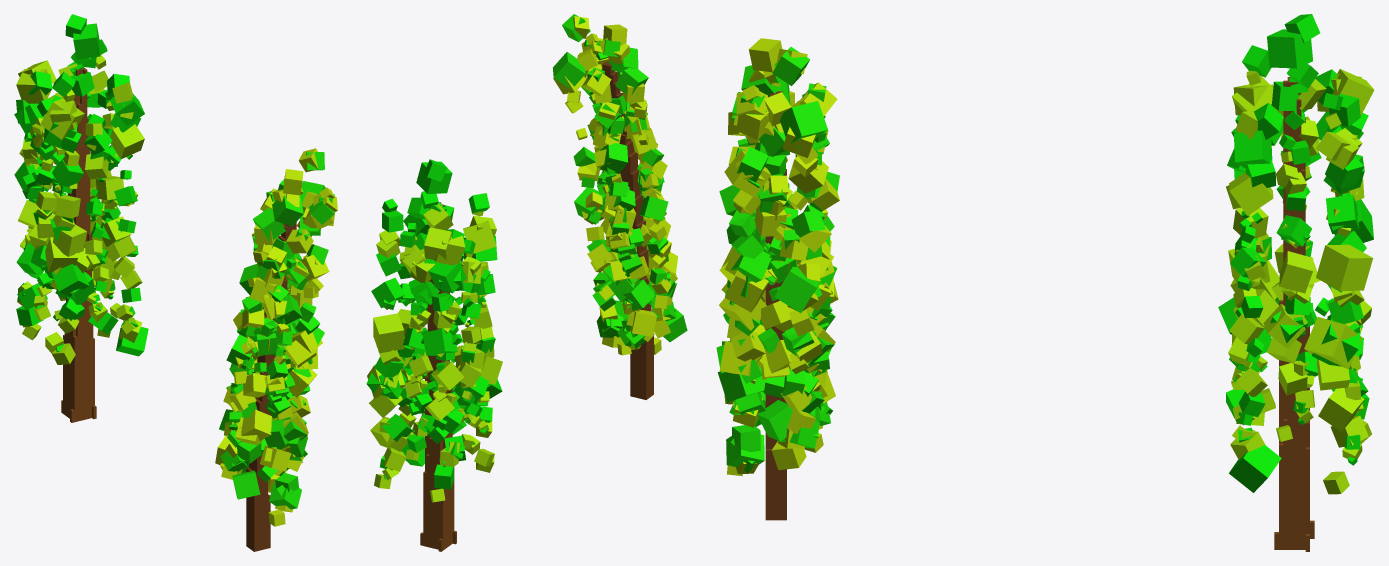
File: воксель куст 2.dae
3 views of the same model, side by side, from view 1: azimuth 30°, elevation 25°; view 2: azimuth 150°, elevation 25°; view 3: azimuth 270°, elevation 25° (orthographic). The views are drawn at different scales.
Visible parts, largest first — view 1: Плоскость, Плоскость.002; view 2: Плоскость, Плоскость.002; view 3: Плоскость, Плоскость.002.
Part boxes in pixels (left/top/right/bottom): Плоскость: left=14, top=14, right=148, bottom=422; Плоскость.002: left=215, top=148, right=337, bottom=551; Плоскость: left=366, top=159, right=502, bottom=551; Плоскость.002: left=553, top=14, right=687, bottom=399; Плоскость: left=1218, top=14, right=1374, bottom=551; Плоскость.002: left=716, top=38, right=839, bottom=520.
Size of the model in its own units: 0.6814 by 2.49 by 2.21.
